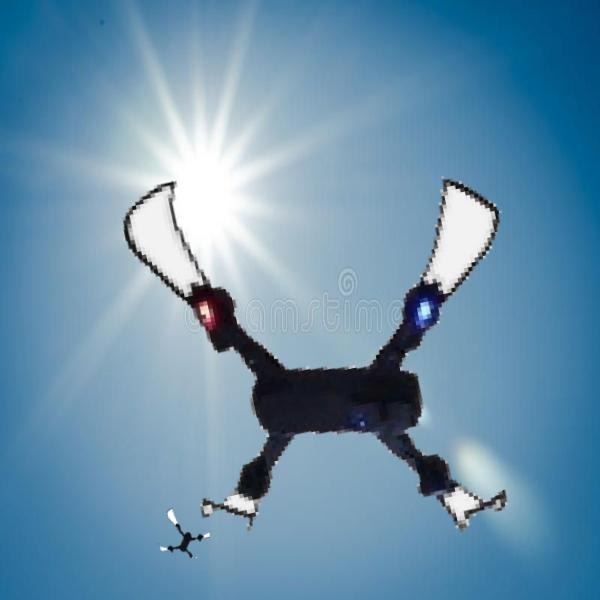drone: (121, 145, 538, 562), (154, 505, 215, 566)
